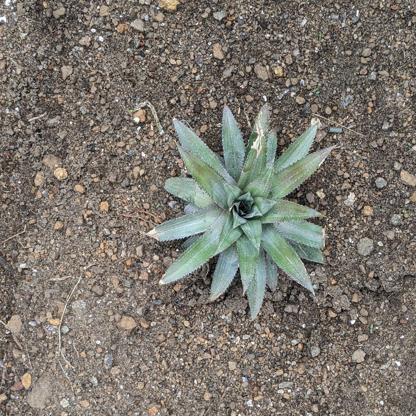pineapple: (148, 103, 336, 320)
